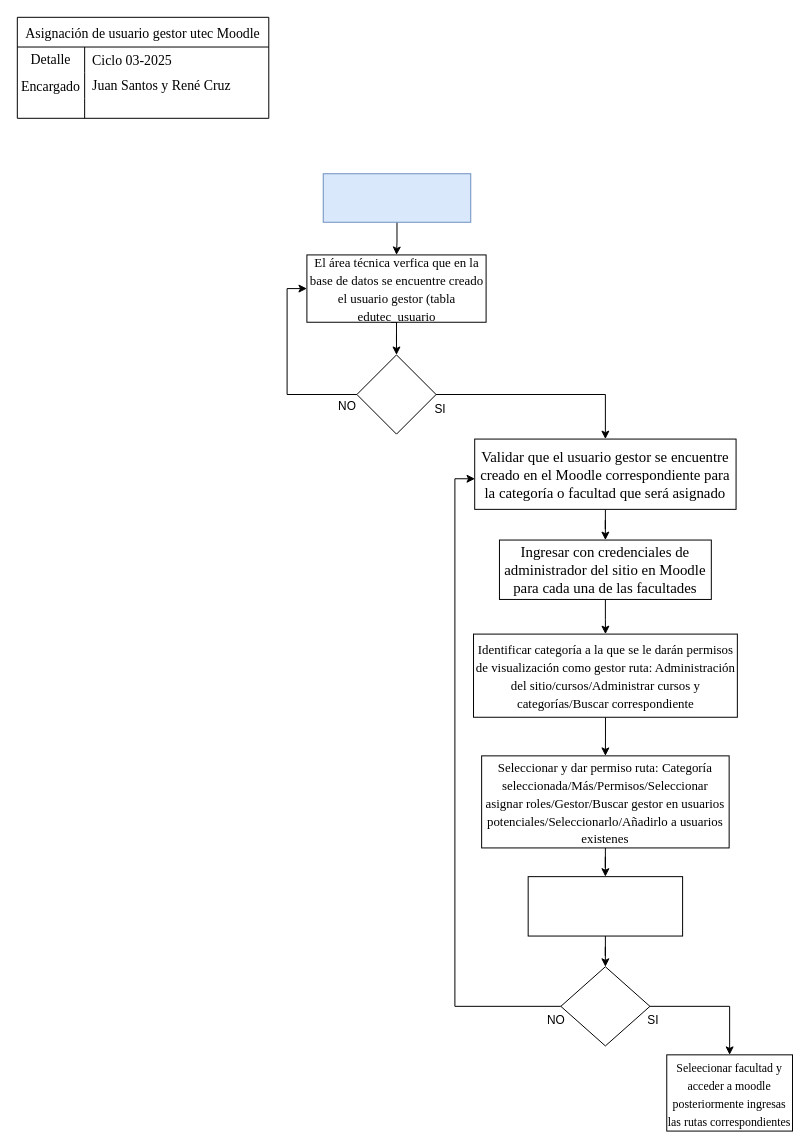
Image size: 810x1148. Some labels were removed from this diagram. The shapes that lost their labels are listed below. From the top down, each one's box as (x1, y1, x2, y2) in pixels, then its label:
(322, 173, 471, 222): Asignación de usuario gestor utec
(356, 354, 436, 434): ¿existe?
(527, 876, 683, 936): Corroborar el ingreso desde Utec Virtual
(560, 966, 650, 1046): ¿Ingresa?
